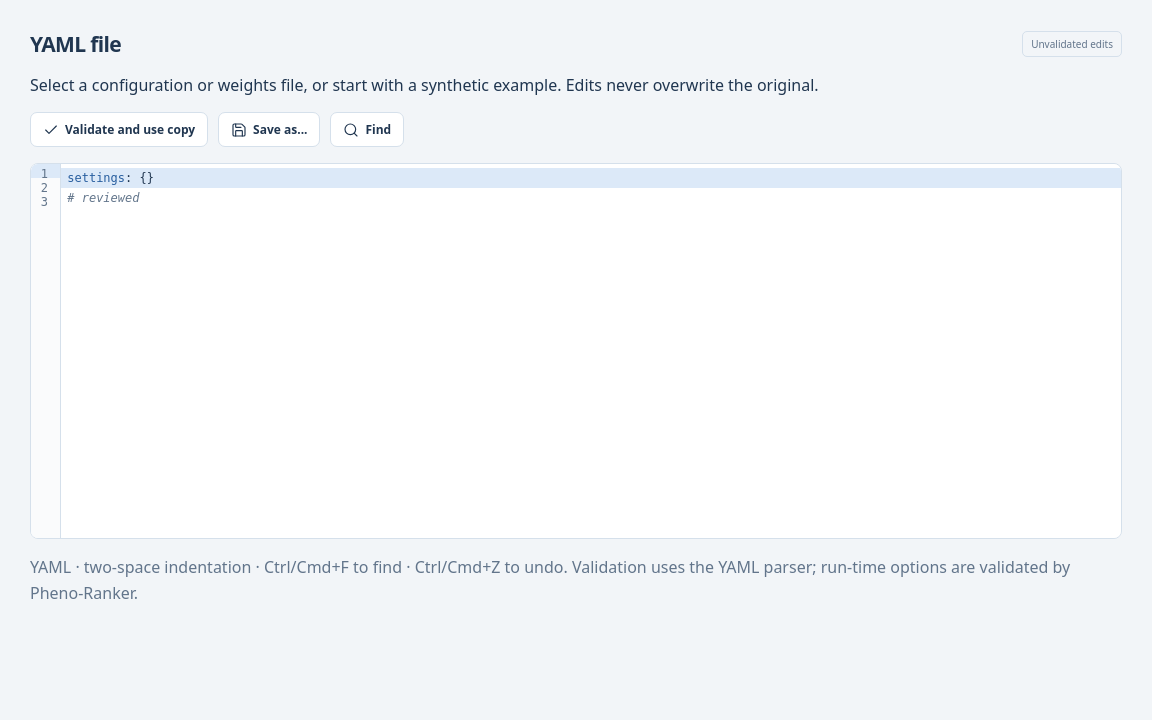
Scenario: renders YAML with line numbers, edits and sends exact text for validation and save
The width and height of the screenshot is (1152, 720).
Expected: the element with class "cm-lineNumbers" is shown, [31, 164, 51, 209]
Click the button "Validate and use copy". click: x=119, y=130
box: [30, 112, 208, 147]
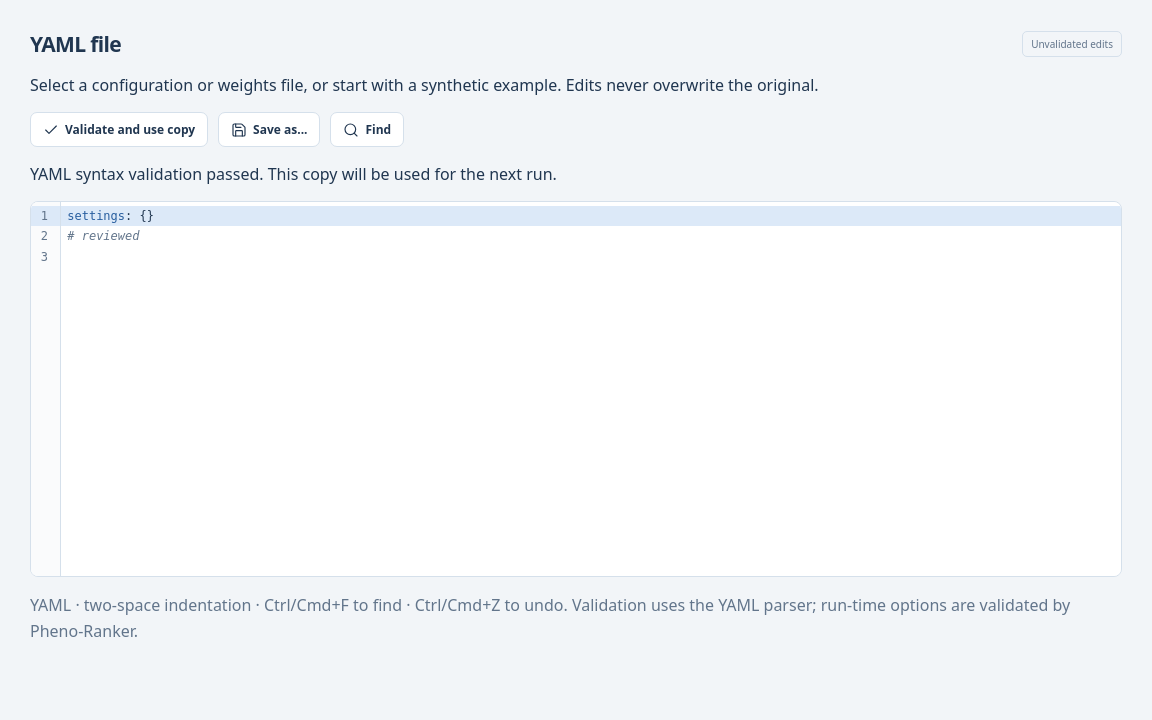
Now the message shows "validation passed", box [30, 163, 557, 185]
Click the button "Save as...". click: x=269, y=130
box: [218, 112, 320, 147]
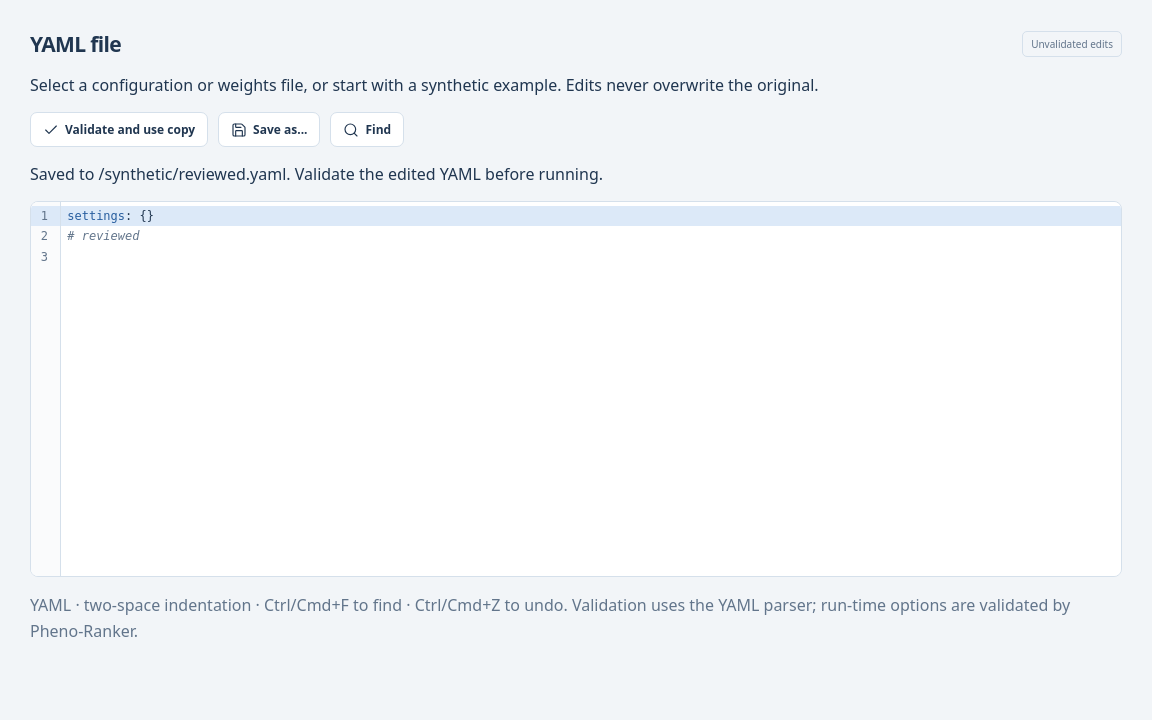
Now the text "Saved to /synthetic/reviewed.yaml. Validate the edited YAML before running." is shown, box [30, 163, 603, 185]
